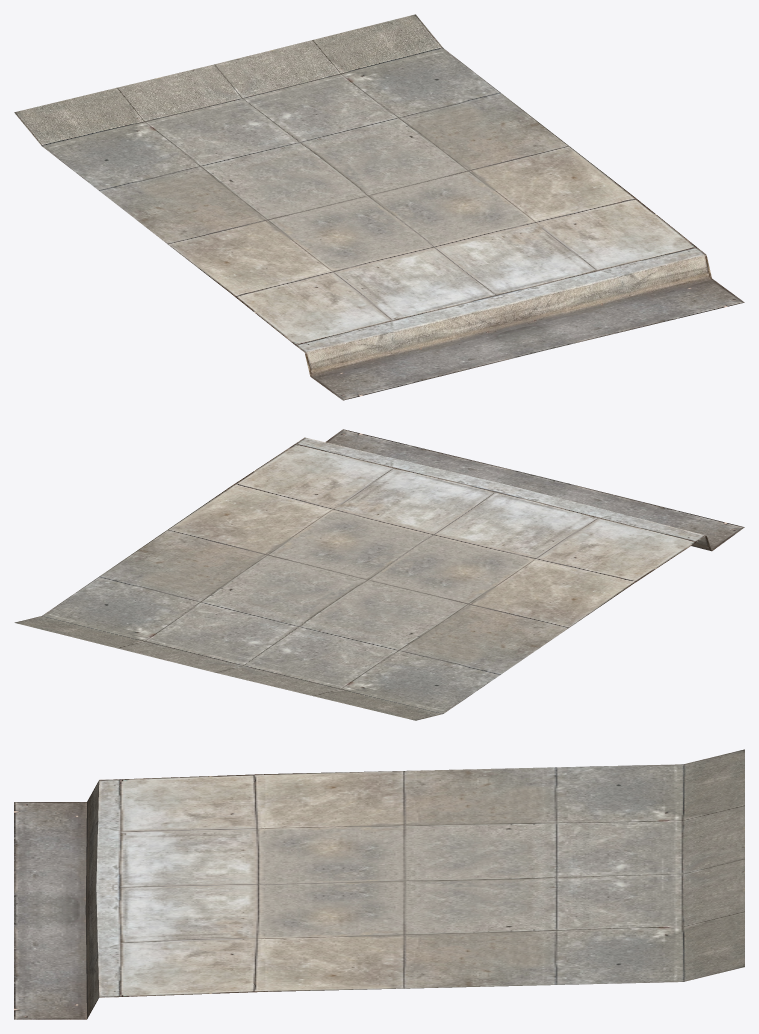
The model's file is Side-curb-1.glb.
3 renders of one model, top to bottom at view 1: azimuth 30°, elevation 25°; view 2: azimuth 150°, elevation 25°; view 3: azimuth 270°, elevation 25°, orthographic. The views are drawn at different scales.
Parts seen in each view (by area): view 1: sideCurb_low; view 2: sideCurb_low; view 3: sideCurb_low.
Boxes of the visible parts, box(x1,y1,x2,y2) form: sideCurb_low: box(14, 14, 744, 400); sideCurb_low: box(14, 429, 744, 720); sideCurb_low: box(14, 749, 744, 1019).
Bounding box in the file's own units: 3.64 × 0.4094 × 5.16.
Materials: 1 (1 with a texture image).
